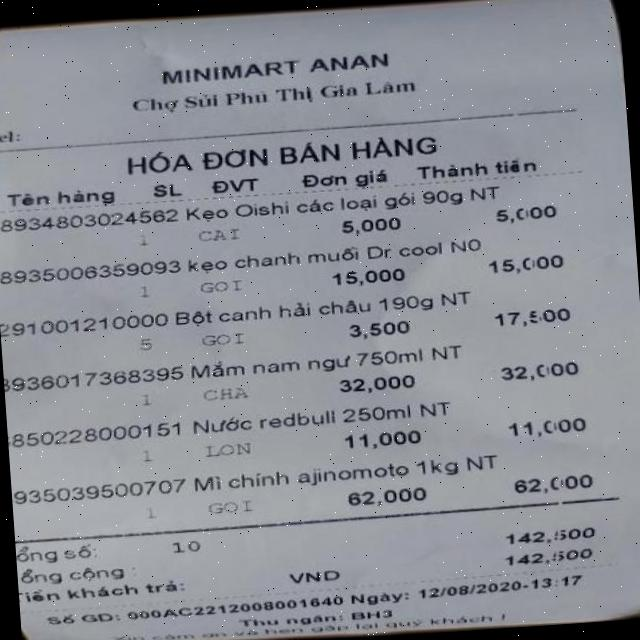Date: (416, 576, 525, 604)
Store_Name: (128, 47, 406, 100)
amount_number: (502, 522, 600, 550)
label_total: (17, 561, 128, 592)
